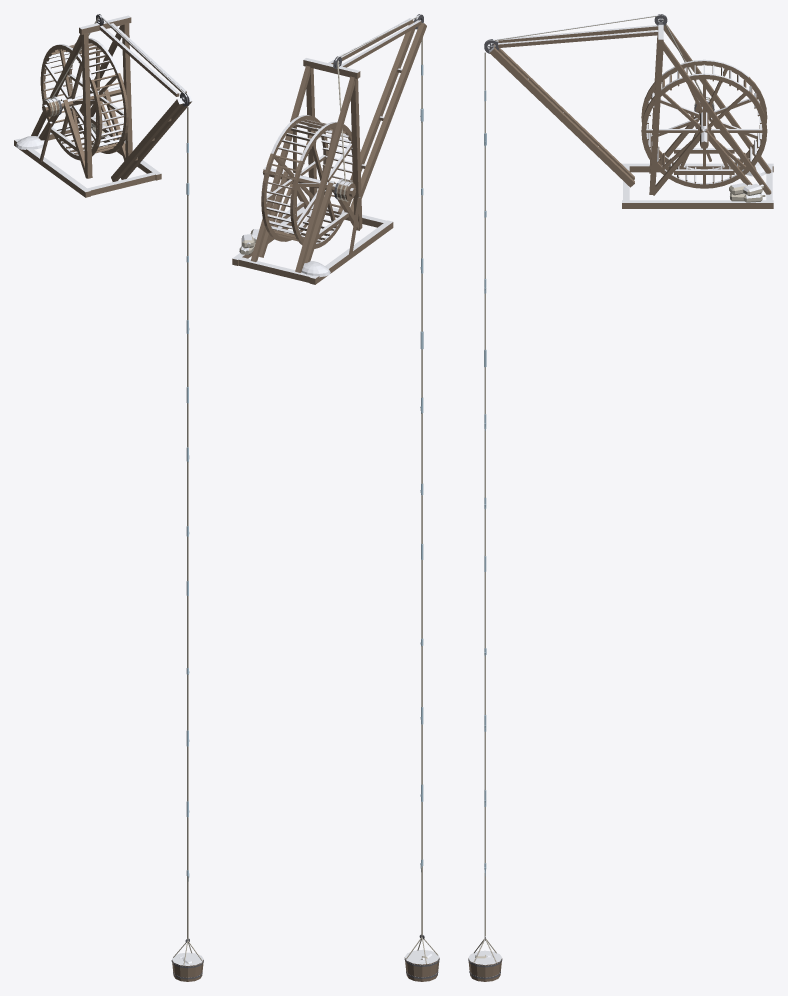
Rendered from PR_Grua_Pisar.fbx.
3 renders of one model, left to right at view 1: azimuth 30°, elevation 25°; view 2: azimuth 150°, elevation 25°; view 3: azimuth 270°, elevation 25°, orthographic. The views are drawn at different scales.
Visible parts, largest first — view 1: PR_Grua_Pisar; view 2: PR_Grua_Pisar; view 3: PR_Grua_Pisar.
Part boxes in pixels (<box>): PR_Grua_Pisar: <box>14,14,203,981</box>; PR_Grua_Pisar: <box>232,14,439,981</box>; PR_Grua_Pisar: <box>468,14,773,981</box>.
Size of the model in its own units: 4.73 by 48.74 by 14.09.
